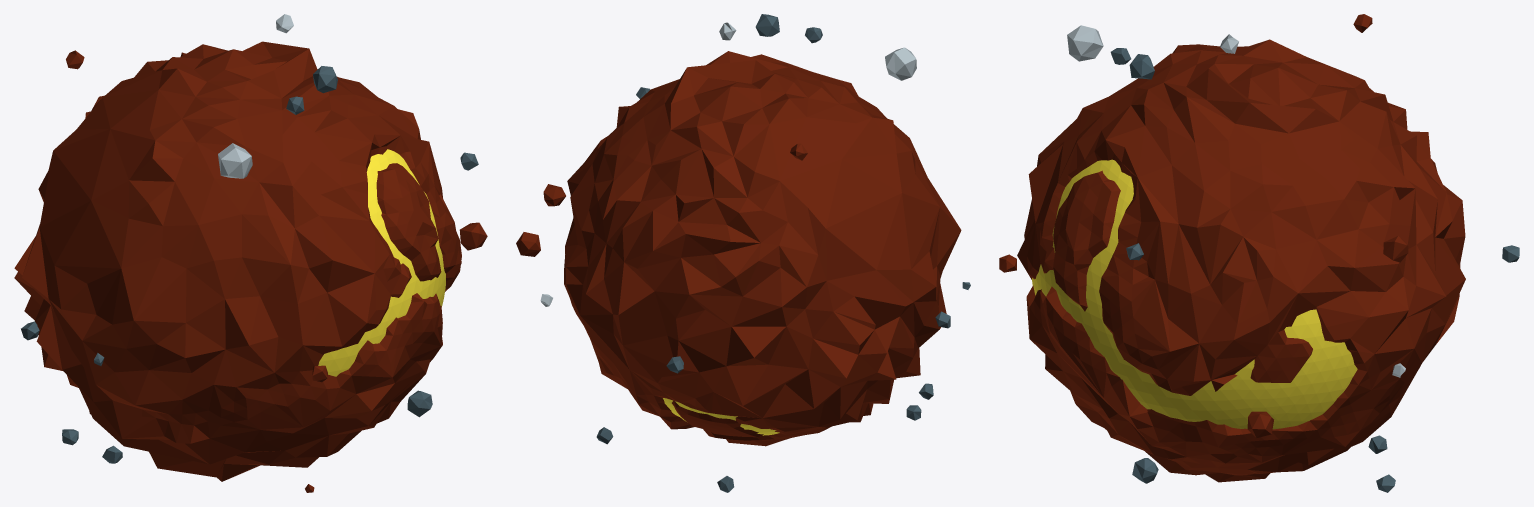
Rendered from Planet_9.glb.
3 views of the same model, side by side, from view 1: azimuth 30°, elevation 25°; view 2: azimuth 150°, elevation 25°; view 3: azimuth 270°, elevation 25° (orthographic). The views are drawn at different scales.
Parts seen in each view (by area): view 1: Planet_9; view 2: Planet_9; view 3: Planet_9.
Part boxes in pixels (x1=…): Planet_9: x1=14, y1=14, x2=487, y2=492; Planet_9: x1=516, y1=14, x2=970, y2=492; Planet_9: x1=999, y1=14, x2=1519, y2=492.
Bounding box in the file's own units: 25.53 × 23.3 × 24.11.
1 material, 1 textured.
